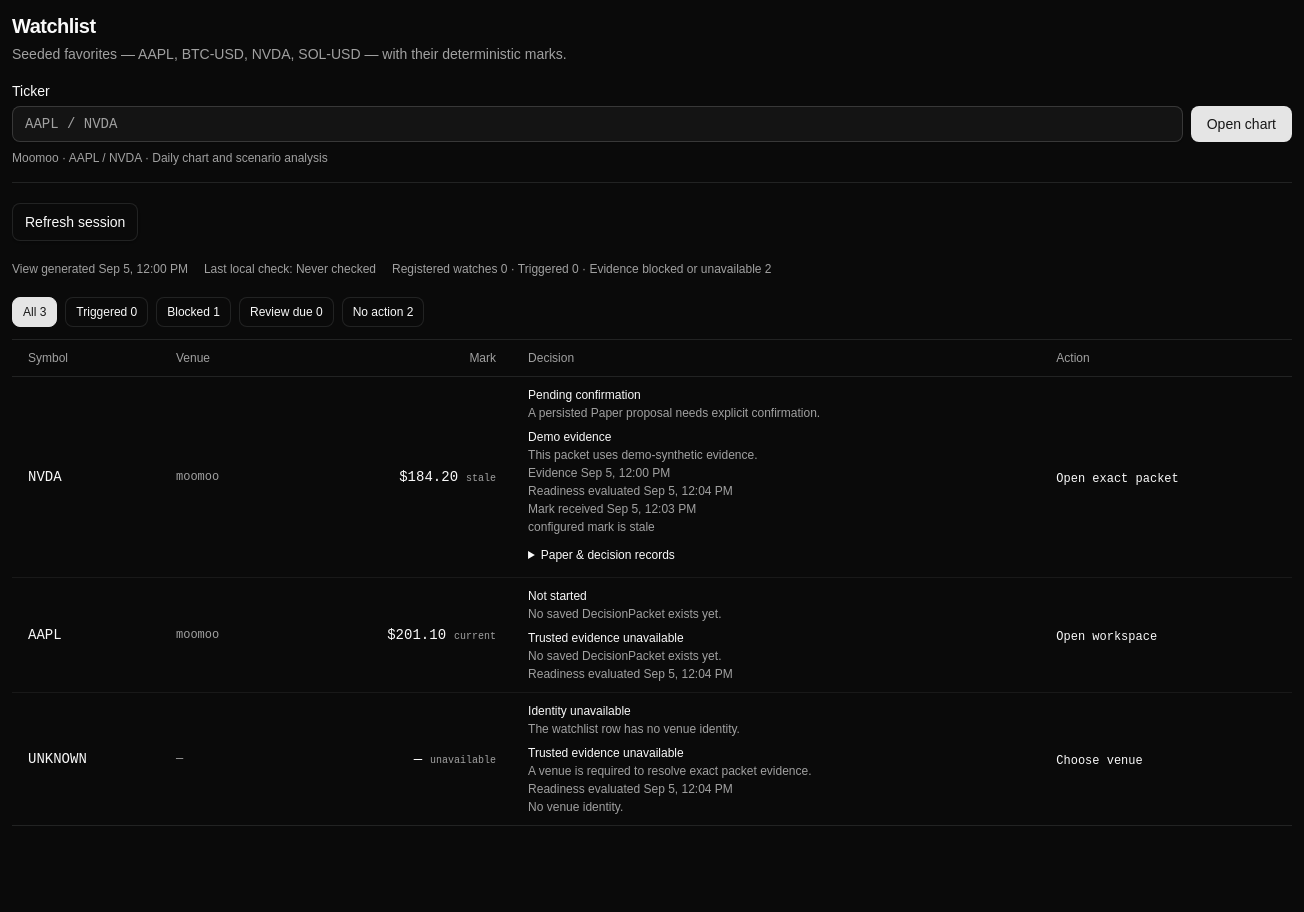
Scenario: keeps not-started entries in No action while unavailable venue entries stay Blocked
The image size is (1304, 912).
Click the button "No action 2": (383, 312) [342, 297, 424, 327]
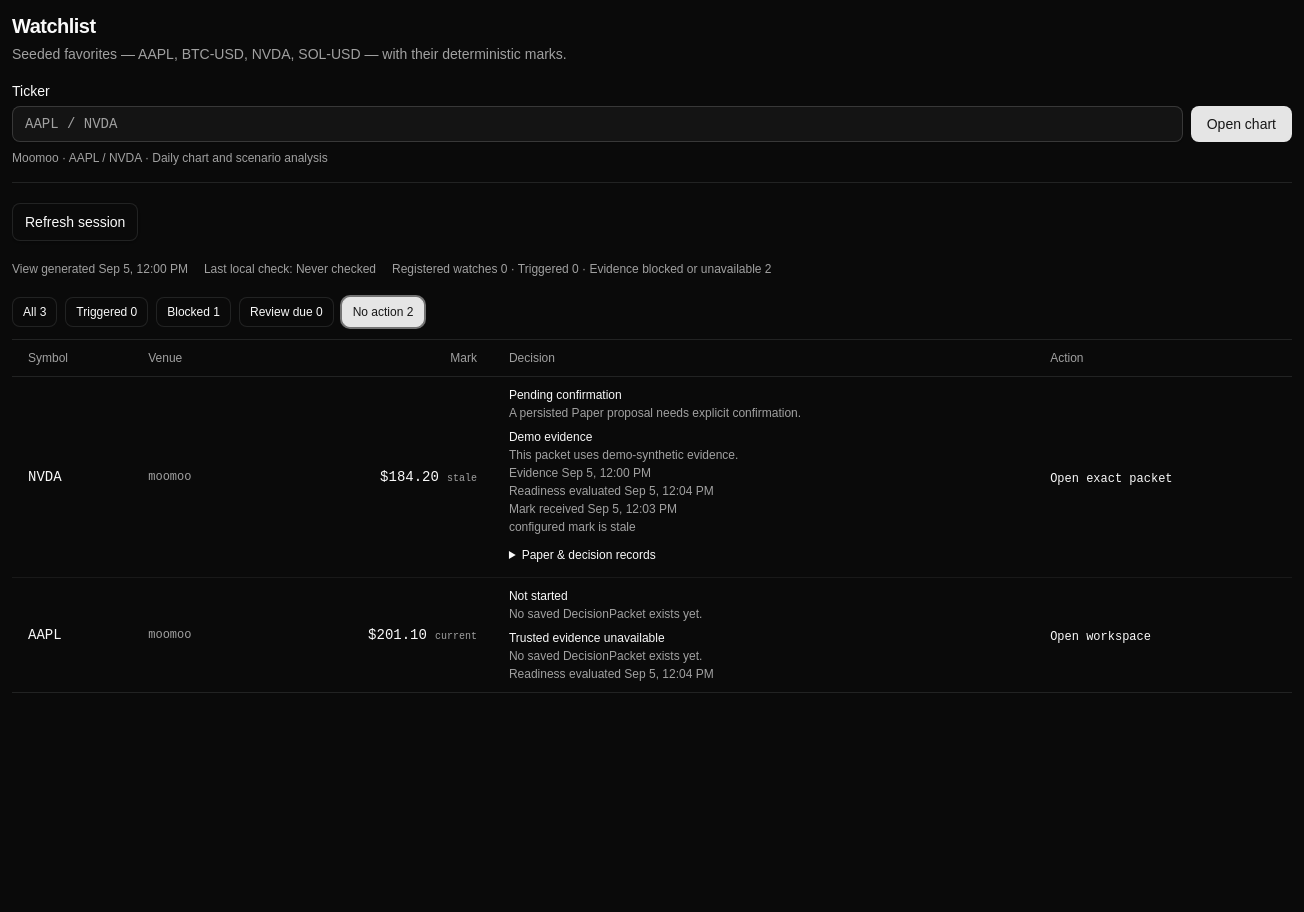
Expected: the link "AAPL" is shown, [28, 627, 62, 643]
Expected: the text "UNKNOWN" is gone
Click the button "Blocked 1": (194, 312) [156, 297, 231, 327]
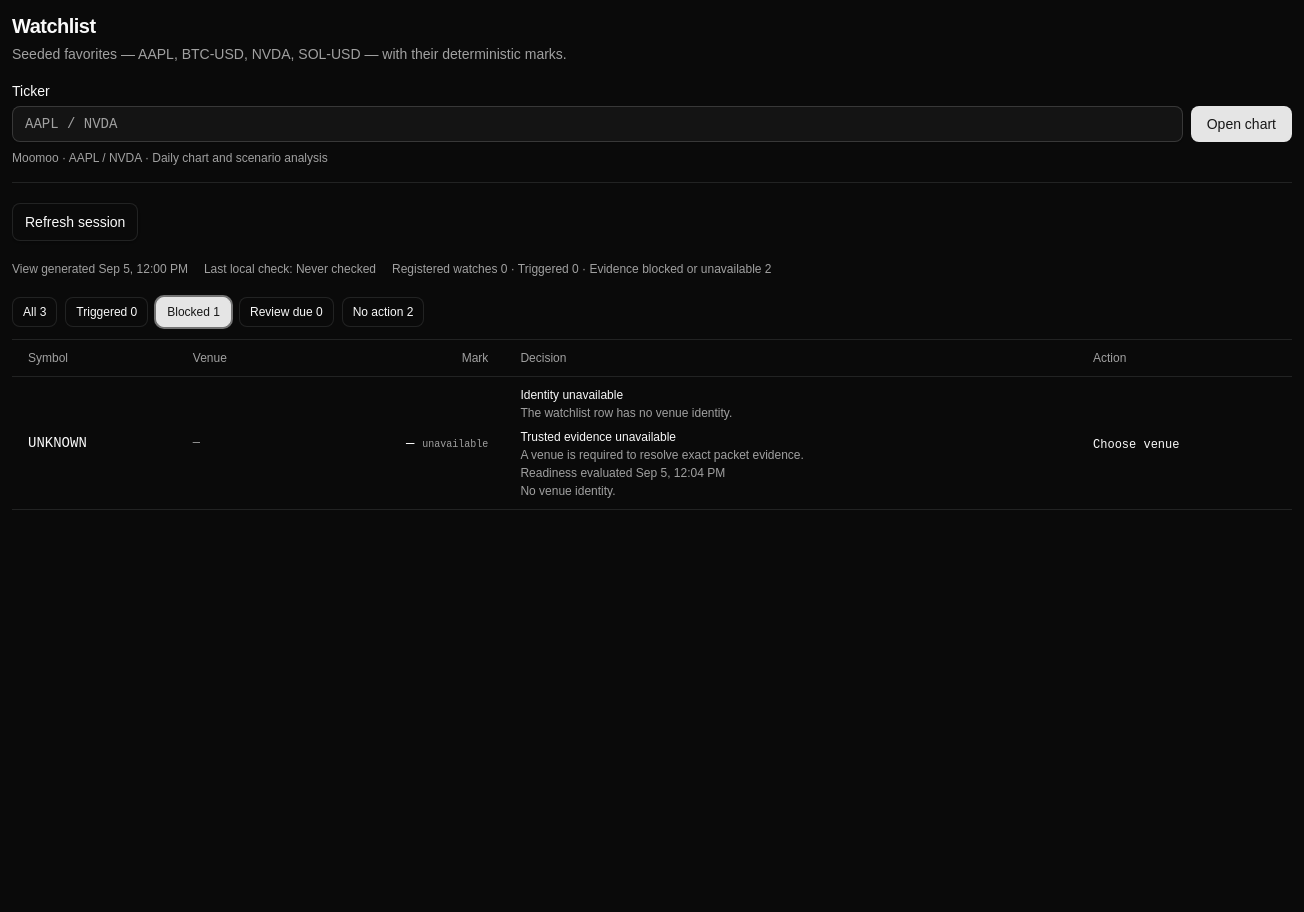
Expected: the text "UNKNOWN" is shown, [12, 376, 177, 509]
